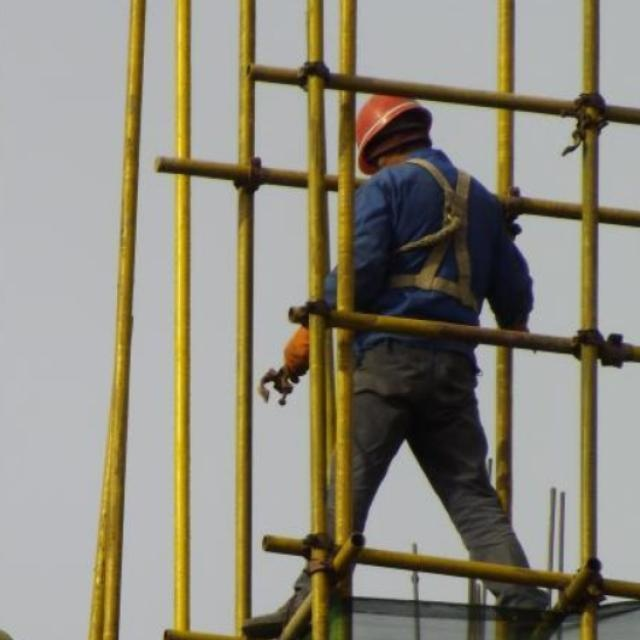Arnes_seguridad: (376, 148, 487, 313)
